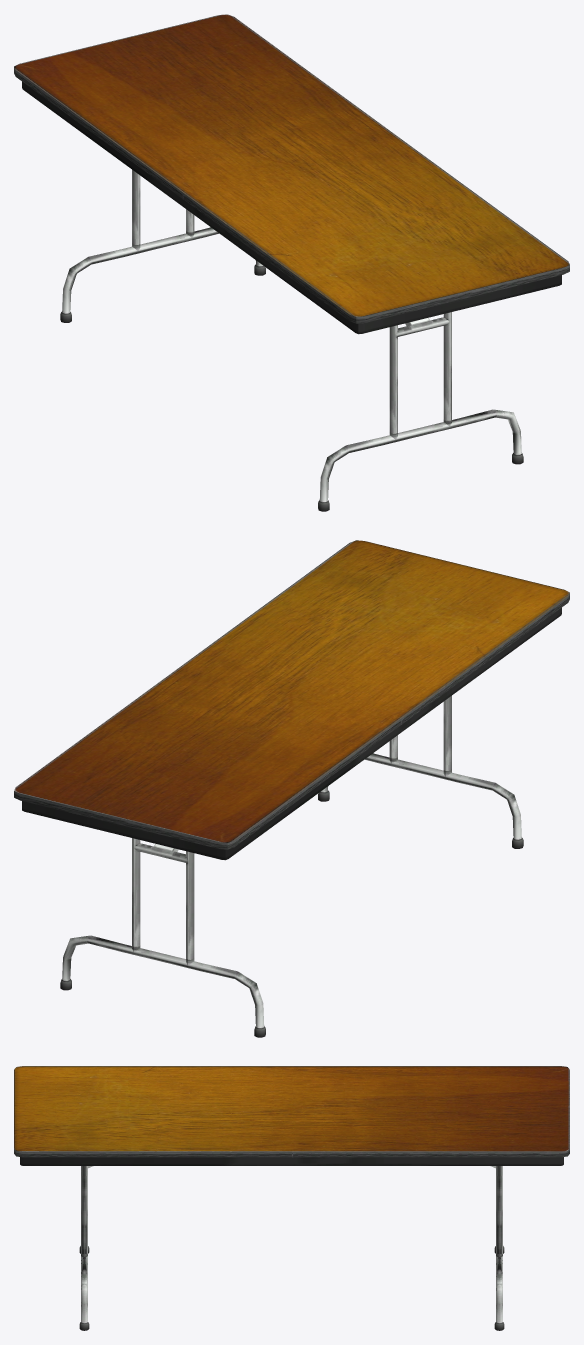
File: table.glb
The picture shows the model from 3 angles, top to bottom: view 1: azimuth 30°, elevation 25°; view 2: azimuth 150°, elevation 25°; view 3: azimuth 270°, elevation 25°; orthographic projection. The views are drawn at different scales.
Visible parts, largest first — view 1: table.003; view 2: table.003; view 3: table.003.
Part boxes in pixels (x1,y1,x2,y2): table.003: (14,14,569,511); table.003: (14,540,569,1037); table.003: (14,1066,569,1330).
Size of the model in its own units: 0.8542 by 0.8431 by 2.34.
Materials: 1 (1 with a texture image).
